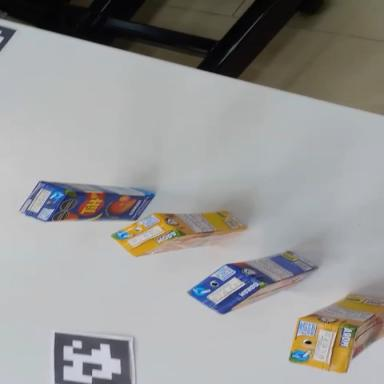HIT-MANGO: (184, 234, 320, 323), (20, 180, 155, 229)
HIT-MORA: (288, 285, 384, 380), (110, 199, 248, 260)
cara_F: (222, 265, 319, 314), (330, 305, 384, 372), (136, 225, 246, 256), (47, 191, 153, 222)
